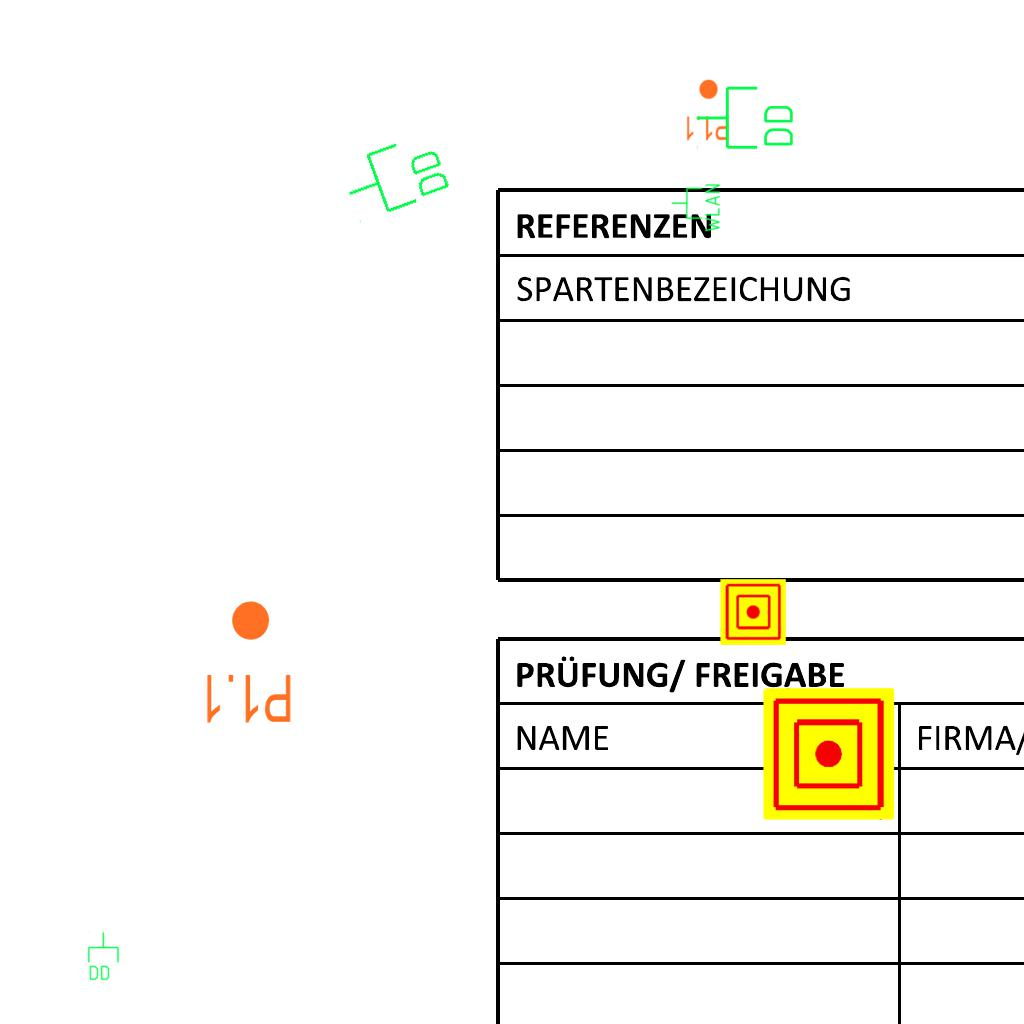Datenanschluss_zweifach: (335, 127, 456, 228), (694, 84, 797, 153), (86, 931, 120, 982)
Downlight_LED_Einbauleuchten_Flur: (201, 598, 294, 726), (684, 78, 730, 142)
NAM-Nichtautomatischer_Melder: (763, 688, 895, 820), (720, 579, 786, 645)
WLAN: (670, 182, 722, 234)
